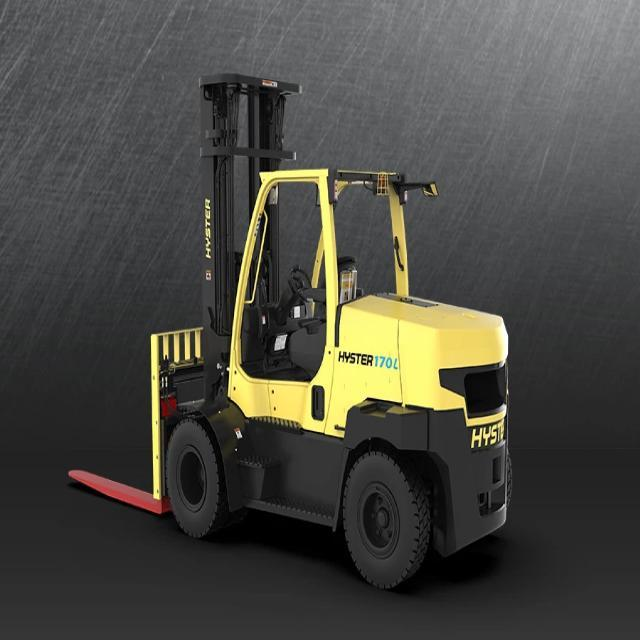forklift: (138, 62, 515, 600)
